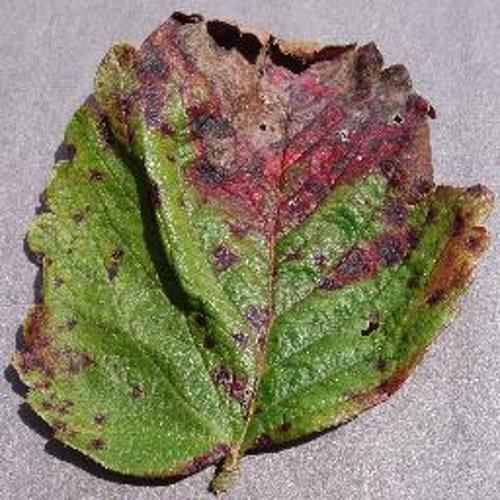Strawberry: (11, 12, 493, 492)
